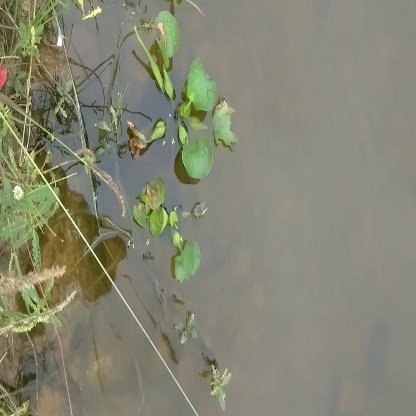leaf: (175, 59, 229, 114)
